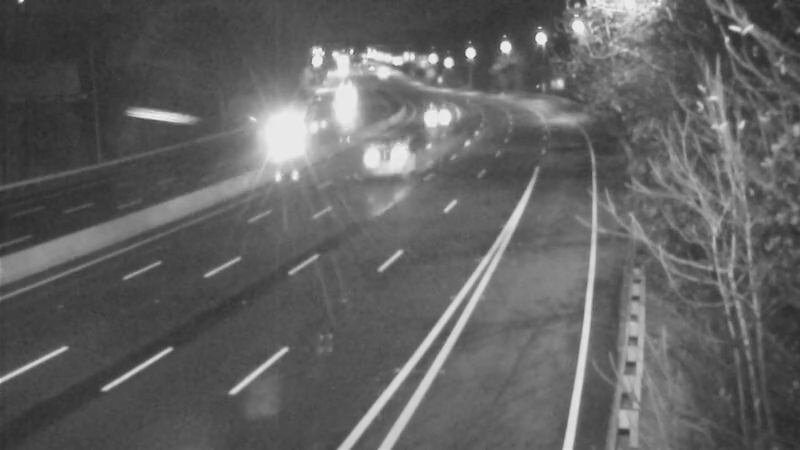vehicle: (351, 119, 431, 199), (412, 88, 462, 138), (253, 120, 303, 170), (322, 76, 372, 126)
